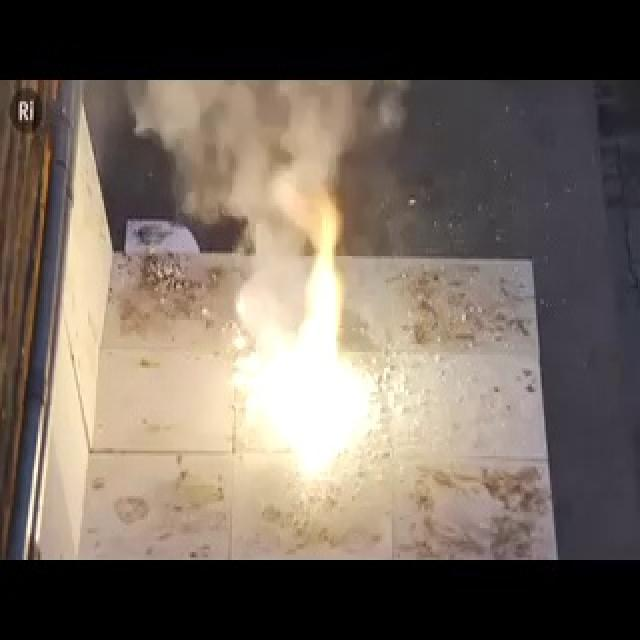fire: (233, 150, 381, 480)
